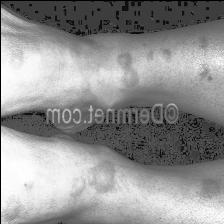Toxin: (84, 161, 116, 193), (5, 47, 24, 74)
